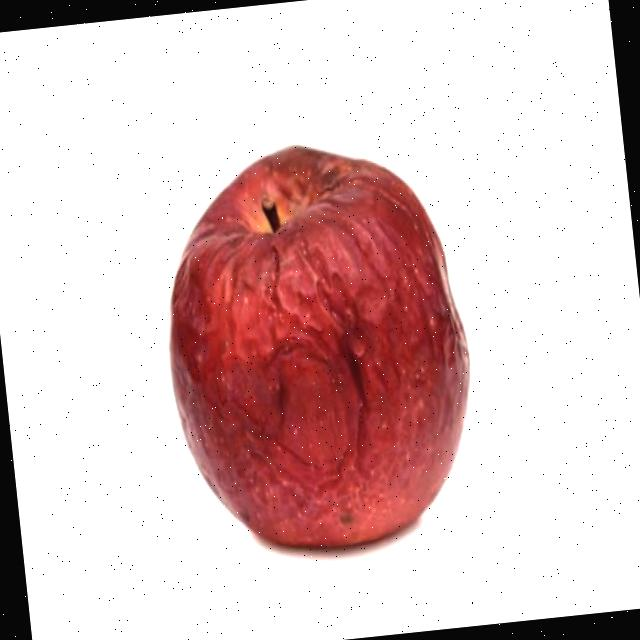rotten apple: (113, 72, 532, 615)
